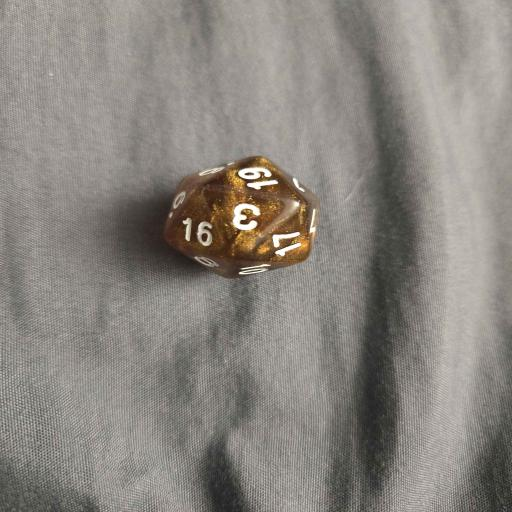twenty sided dice: (164, 156, 318, 279)
